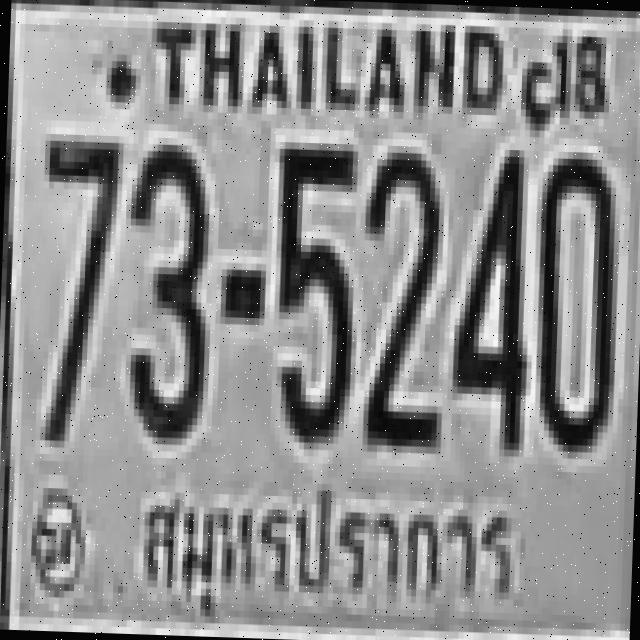0: (528, 148, 616, 450)
2: (354, 147, 441, 416)
3: (120, 136, 208, 438)
4: (445, 144, 529, 446)
5: (265, 138, 353, 440)
7: (32, 133, 120, 429), (34, 133, 121, 388), (36, 136, 120, 324)
SamutPrakan: (128, 466, 532, 636)
